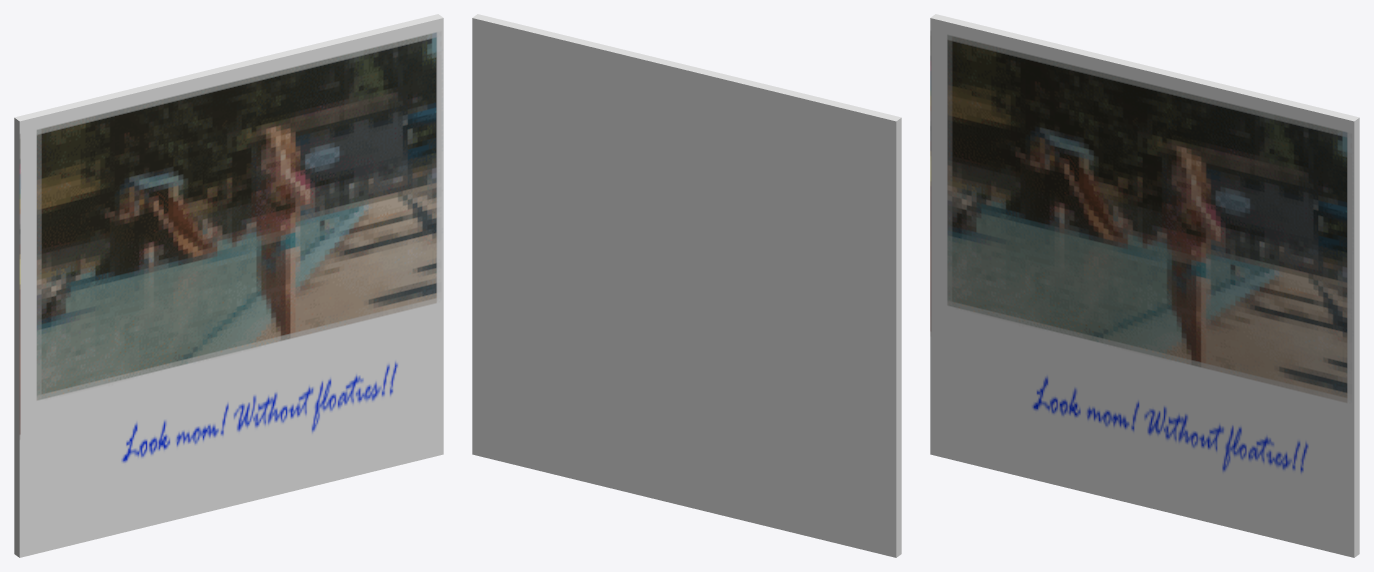
The model's file is poolPhoto.fbx.
The picture shows the model from 3 angles, left to right: view 1: azimuth 30°, elevation 25°; view 2: azimuth 150°, elevation 25°; view 3: azimuth 330°, elevation 25°; orthographic projection.
Parts seen in each view (by area): view 1: Cube; view 2: Cube; view 3: Cube.
Part boxes in pixels (bbox=[...]): Cube: bbox=[14, 14, 443, 557]; Cube: bbox=[472, 14, 901, 557]; Cube: bbox=[930, 14, 1359, 557].
Size of the model in its own units: 36.05 by 35.46 by 0.8.
